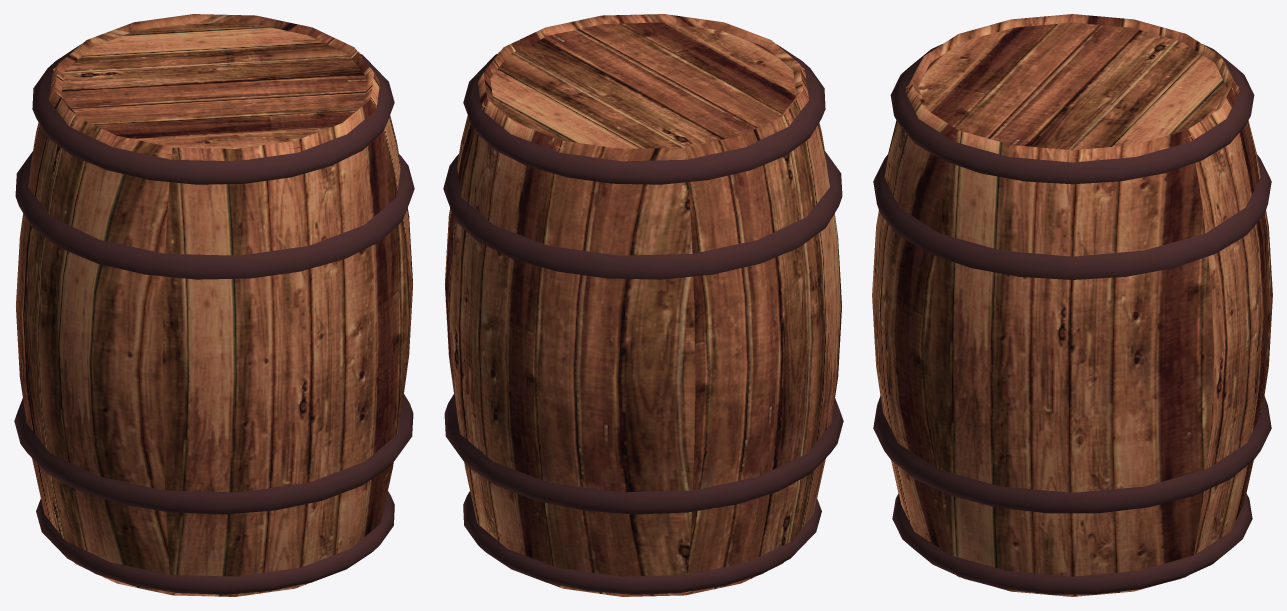
The model's file is bure.fbx.
The picture shows the model from 3 angles, left to right: view 1: azimuth 30°, elevation 25°; view 2: azimuth 150°, elevation 25°; view 3: azimuth 270°, elevation 25°; orthographic projection.
Parts seen in each view (by area): view 1: woodbarrel; view 2: woodbarrel; view 3: woodbarrel.
Part boxes in pixels (x1,y1,x2,y2): woodbarrel: (14, 14, 414, 596); woodbarrel: (443, 14, 843, 596); woodbarrel: (872, 14, 1272, 596).
Size of the model in its own units: 12739 by 15671 by 12739.
Materials: 2 (1 with a texture image).
